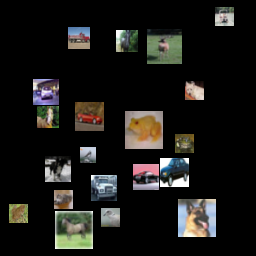automobile: (160, 158, 189, 187), (75, 102, 104, 131), (33, 79, 59, 105), (133, 164, 159, 190)
bird: (101, 208, 120, 227), (80, 147, 96, 163)
cat: (54, 190, 73, 209)
deer: (147, 29, 182, 64)
dog: (178, 199, 216, 237), (45, 156, 71, 182), (185, 81, 204, 100)
frog: (125, 111, 163, 149), (9, 204, 28, 223), (175, 134, 194, 153)
ship: (215, 7, 234, 26)
